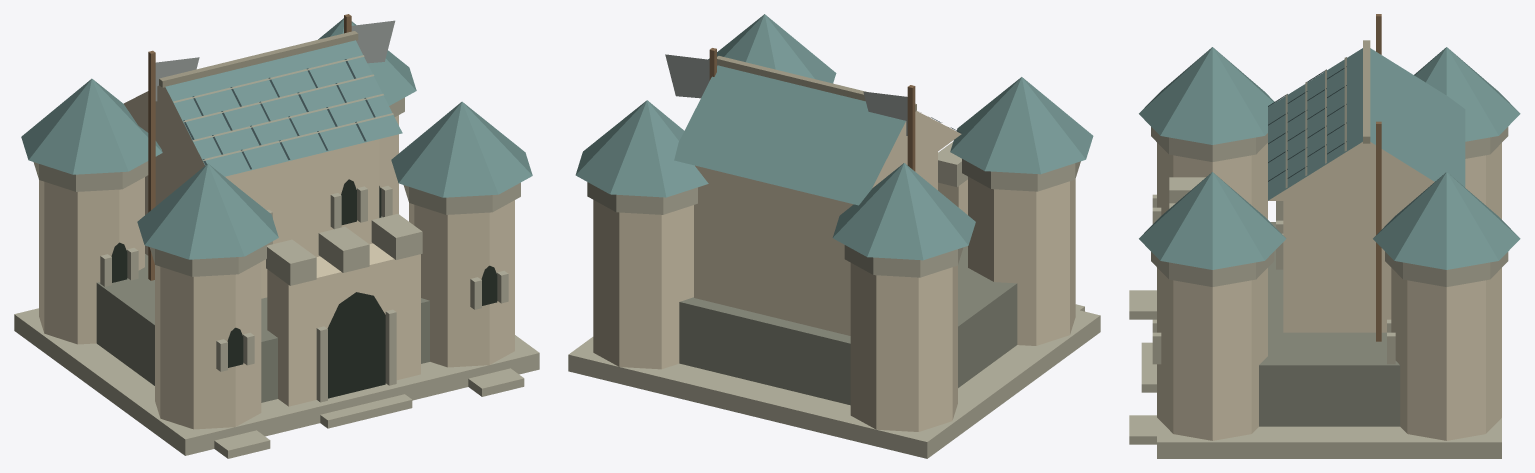
Rendered from citadel.glb.
3 views of the same model, side by side, from view 1: azimuth 30°, elevation 25°; view 2: azimuth 150°, elevation 25°; view 3: azimuth 270°, elevation 25° (orthographic).
Visible parts, largest first — view 1: Building; view 2: Building; view 3: Building.
Boxes of the visible parts, <box> form: Building: <box>14,14,539,458</box>; Building: <box>568,14,1100,458</box>; Building: <box>1129,14,1520,458</box>.
Bounding box in the file's own units: 72 × 55 × 63.5.
